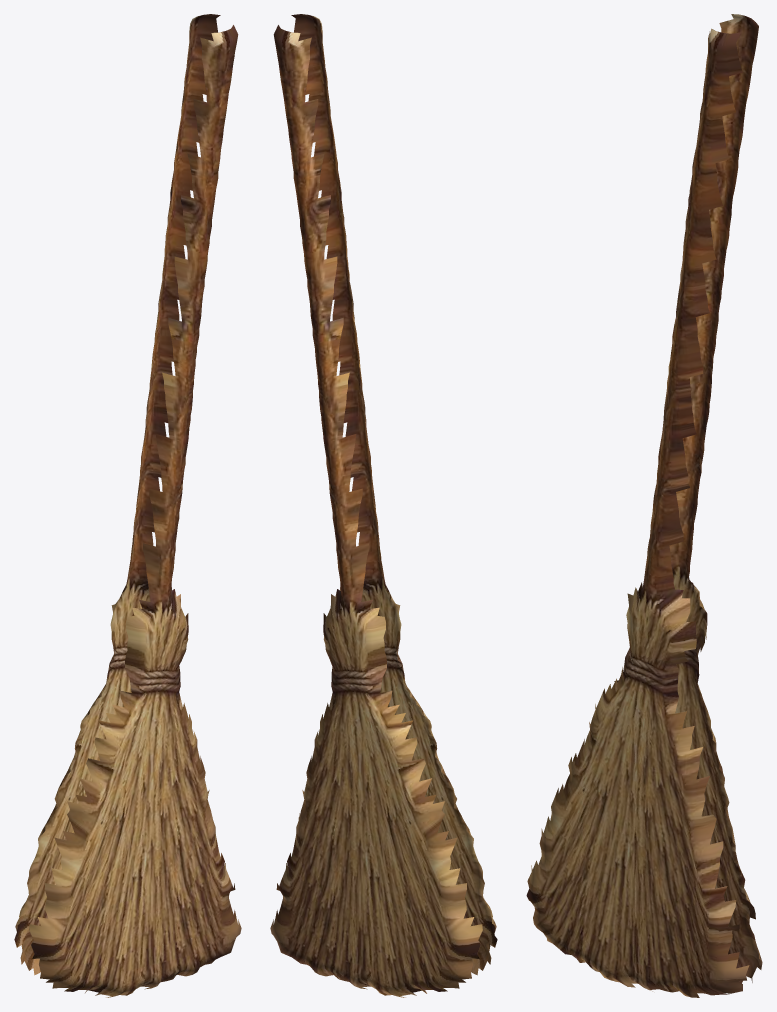
File: v4-taproom-scatter-broom.glb
The picture shows the model from 3 angles, left to right: view 1: azimuth 30°, elevation 25°; view 2: azimuth 150°, elevation 25°; view 3: azimuth 330°, elevation 25°; orthographic projection. The views are drawn at different scales.
Visible parts, largest first — view 1: v4-taproom-scatter-broom; view 2: v4-taproom-scatter-broom; view 3: v4-taproom-scatter-broom.
Part boxes in pixels (<box>): v4-taproom-scatter-broom: <box>14,14,241,997</box>; v4-taproom-scatter-broom: <box>270,14,497,997</box>; v4-taproom-scatter-broom: <box>526,14,762,997</box>.
Size of the model in its own units: 0.3201 by 1.38 by 0.0861.
Materials: 1 (1 with a texture image).
